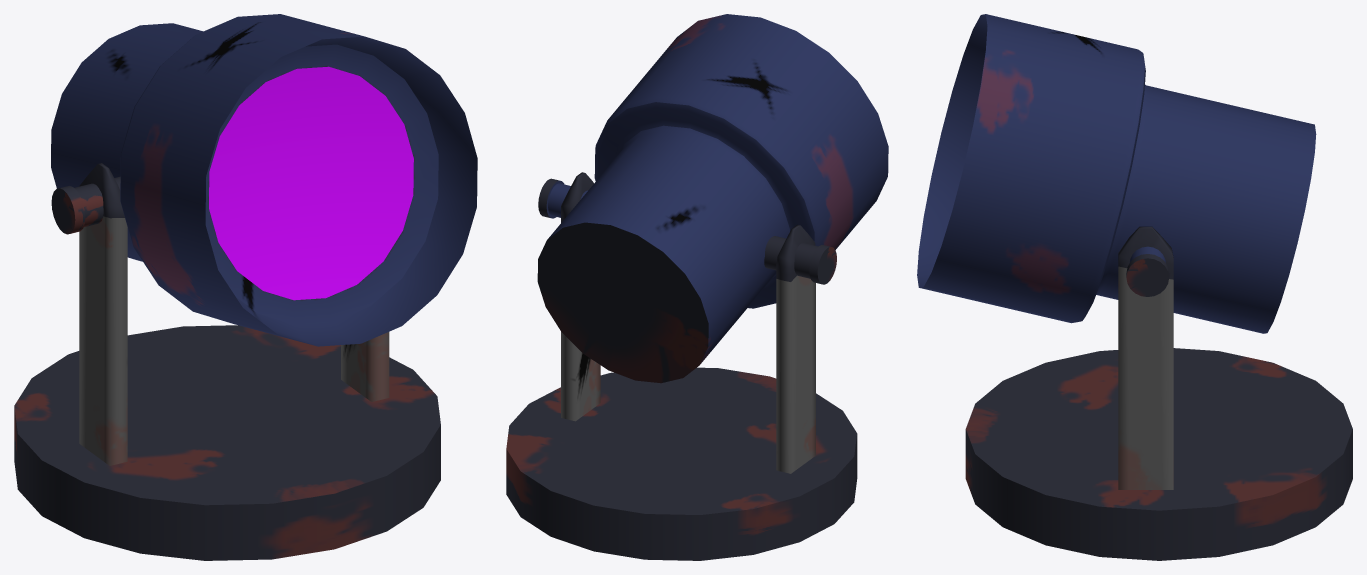
Rendered from Cave_Indoor_Light.fbx.
3 renders of one model, left to right at view 1: azimuth 30°, elevation 25°; view 2: azimuth 150°, elevation 25°; view 3: azimuth 270°, elevation 25°, orthographic. The views are drawn at different scales.
Visible parts, largest first — view 1: Main_Light1; view 2: Main_Light1; view 3: Main_Light1.
Part boxes in pixels (x1,y1,x2,y2): Main_Light1: (14, 14, 477, 560); Main_Light1: (506, 14, 888, 560); Main_Light1: (917, 14, 1352, 560).
Bounding box in the file's own units: 8.13 × 10.48 × 9.15.
2 materials, 1 textured.
